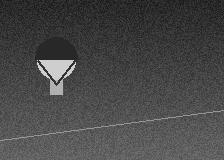helmet: (35, 37, 77, 84)
